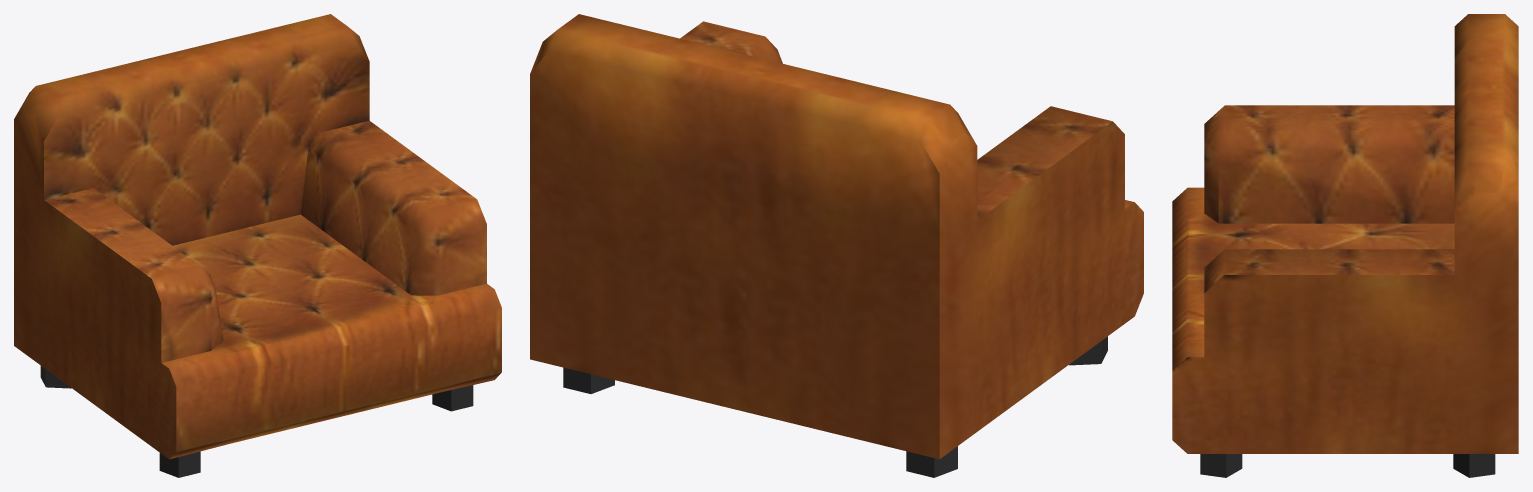
Rendered from Armchair_05-col.glb.
3 renders of one model, left to right at view 1: azimuth 30°, elevation 25°; view 2: azimuth 150°, elevation 25°; view 3: azimuth 270°, elevation 25°, orthographic. The views are drawn at different scales.
Visible parts, largest first — view 1: Armchair_05-col; view 2: Armchair_05-col; view 3: Armchair_05-col.
Boxes of the visible parts, x1,y1,x2,y2 form: Armchair_05-col: [14, 14, 501, 477]; Armchair_05-col: [530, 14, 1143, 477]; Armchair_05-col: [1172, 14, 1518, 477].
Bounding box in the file's own units: 1.24 × 1.04 × 1.07.
1 material, 1 textured.
